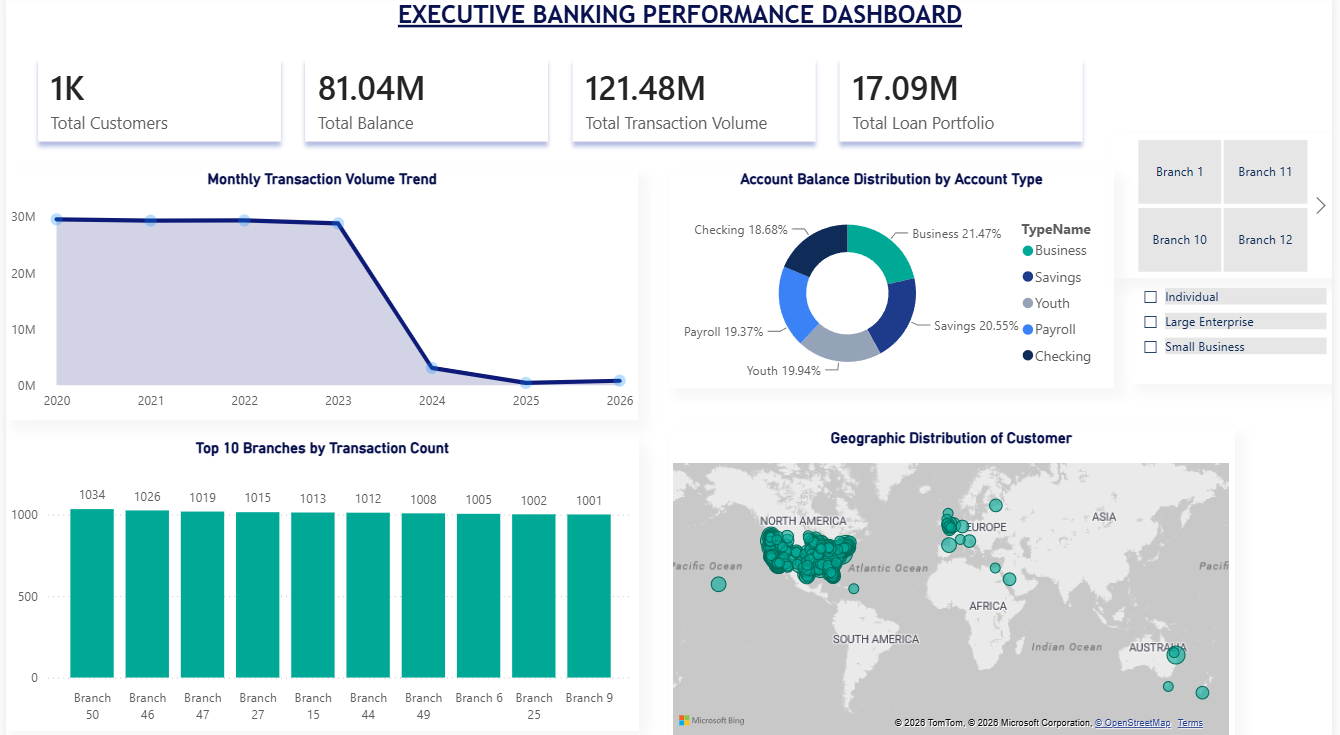

The dashboard page shown, as its layout file describes it:
{"tool":"powerbi","page":{"name":"Executive Overview","canvas":[1280,720],"ordinal":0},"visuals":[{"type":"textbox","box":[20,0,1260,38.8],"z":0},{"type":"slicer","fields":{"Values":["customer_types.TypeName"]},"box":[1085.8,273.9,193.6,101.8],"z":2000},{"type":"slicer","fields":{"Values":["branches.BranchName"]},"box":[1066.5,132.7,213.5,141.2],"z":3000},{"type":"cardVisual","fields":{"Data":["calculation.Total Customers","calculation.Total Balance","calculation.Total Transaction Volume","calculation.Total Loan Portfolio"]},"box":[0,29,1070.1,144],"z":4000},{"type":"lineChart","title":"Monthly Transaction Volume Trend","fields":{"Category":["Calendar table.Date.Variation.Date Hierarchy.Year","Calendar table.Date.Variation.Date Hierarchy.Quarter","Calendar table.Date.Variation.Date Hierarchy.Month","Calendar table.Date.Variation.Date Hierarchy.Day"],"Y":["calculation.Total Transaction Volume"]},"box":[0,168.9,610.5,241.3],"z":5000},{"type":"donutChart","title":"Account Balance Distribution by Account Type","fields":{"Category":["account_types.TypeName"],"Y":["calculation.Total Balance"]},"box":[639.5,168.6,430.6,210.1],"z":6000},{"type":"map","title":"Geographic Distribution of Customer","fields":{"Size":["calculation.Total Customers"],"Category":["addresses.City","addresses.Country"]},"box":[639.5,419,546.1,300.9],"z":7000},{"type":"clusteredColumnChart","title":"Top 10 Branches by Transaction Count","fields":{"Category":["branches.BranchName"],"Y":["calculation.Total Transactions"]},"box":[0,428.3,610.9,281.5],"z":8000}]}

Visuals, with their boxes in screenshot pixels (x1, y1, x2, y2), scaled from the page's 1280x720 canvas onto the 1340x735 screenshot:
textbox: (left=21, top=0, right=1339, bottom=40)
slicer - customer_types.TypeName: (left=1137, top=280, right=1339, bottom=384)
slicer - branches.BranchName: (left=1116, top=135, right=1339, bottom=280)
cardVisual - calculation.Total Customers x calculation.Total Balance: (left=0, top=30, right=1120, bottom=177)
"Monthly Transaction Volume Trend" lineChart: (left=0, top=172, right=639, bottom=419)
"Account Balance Distribution by Account Type" donutChart: (left=669, top=172, right=1120, bottom=387)
"Geographic Distribution of Customer" map: (left=669, top=428, right=1241, bottom=734)
"Top 10 Branches by Transaction Count" clusteredColumnChart: (left=0, top=437, right=640, bottom=725)
